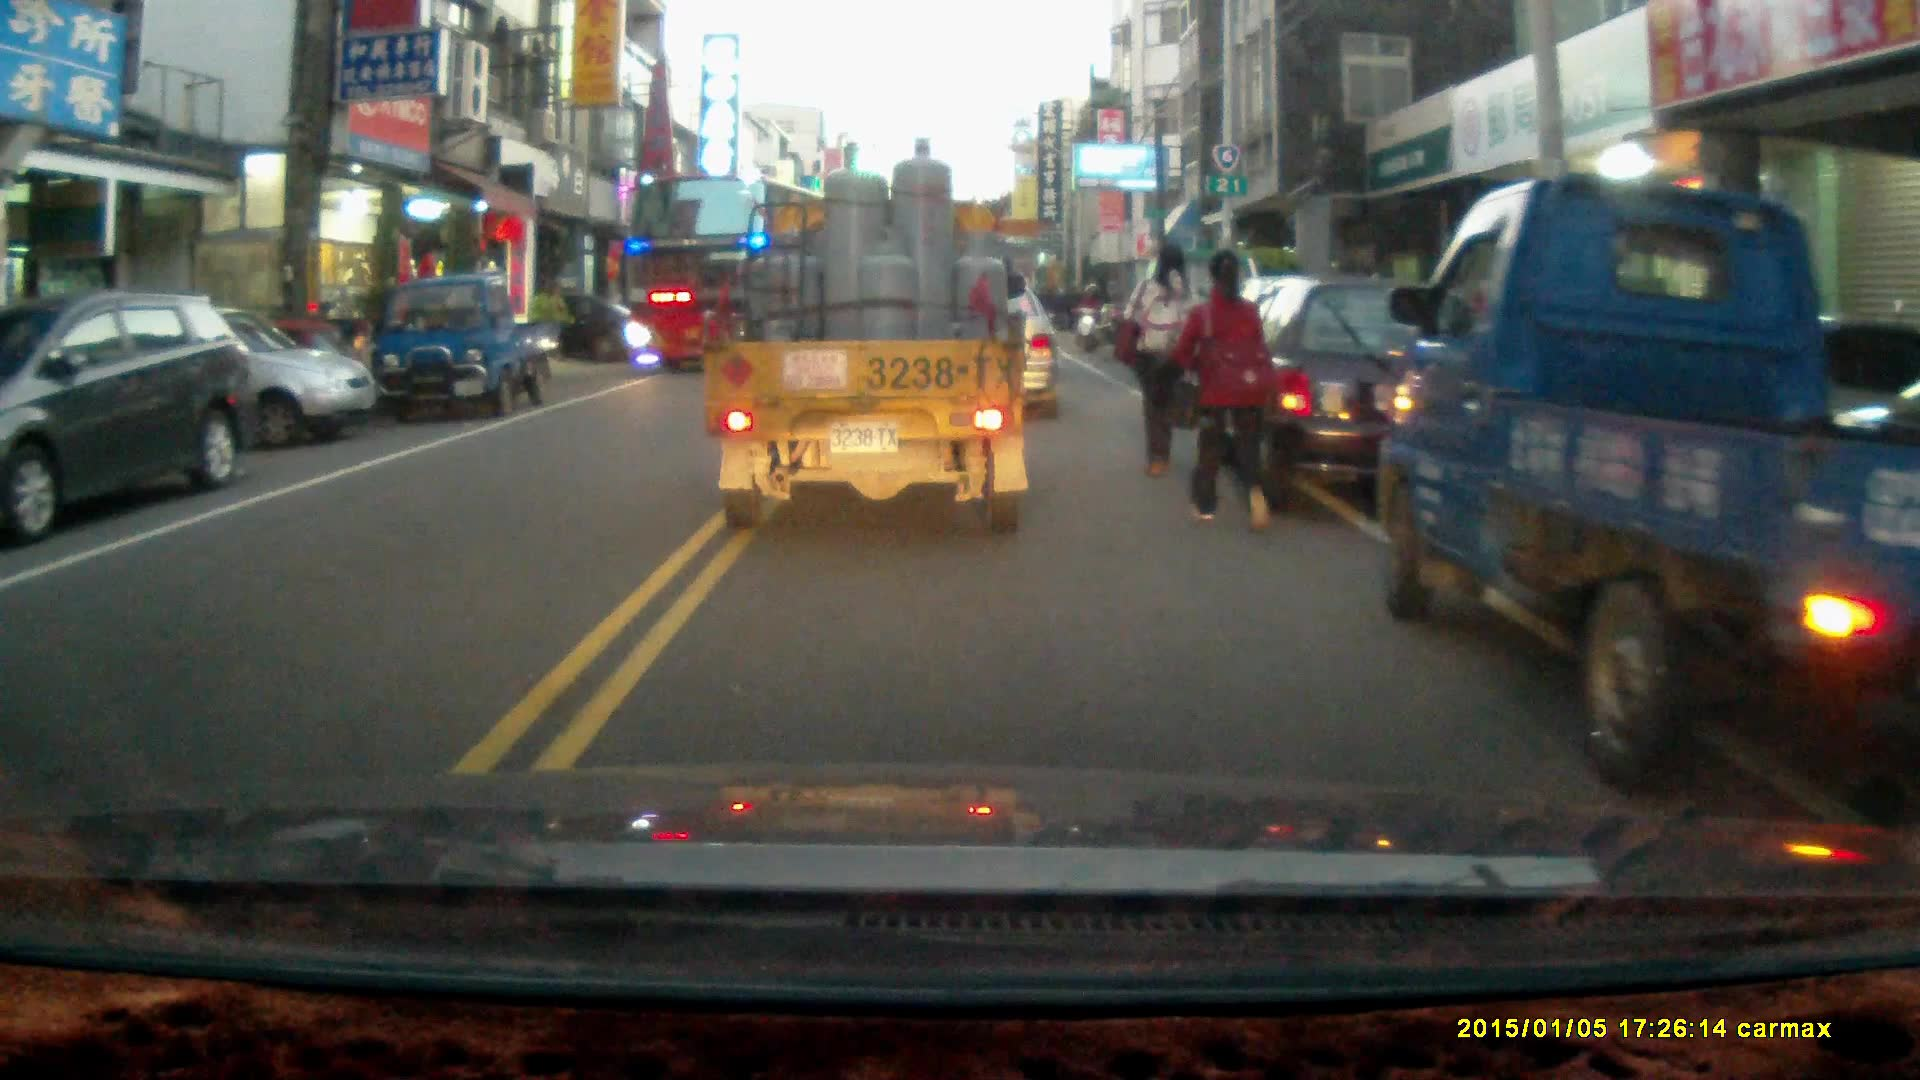pedestrian: (1170, 247, 1283, 533), (1118, 242, 1200, 480)
rider: (1076, 279, 1111, 352)
vehicle: (1377, 169, 1920, 786), (703, 133, 1037, 540), (1218, 277, 1528, 529), (1, 286, 258, 535), (622, 170, 868, 378), (51, 302, 377, 456), (371, 277, 554, 418)
